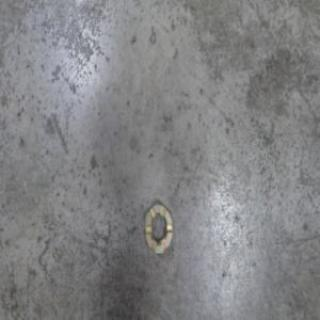Nuttrack_idkeyframe: (142, 197, 173, 256)
